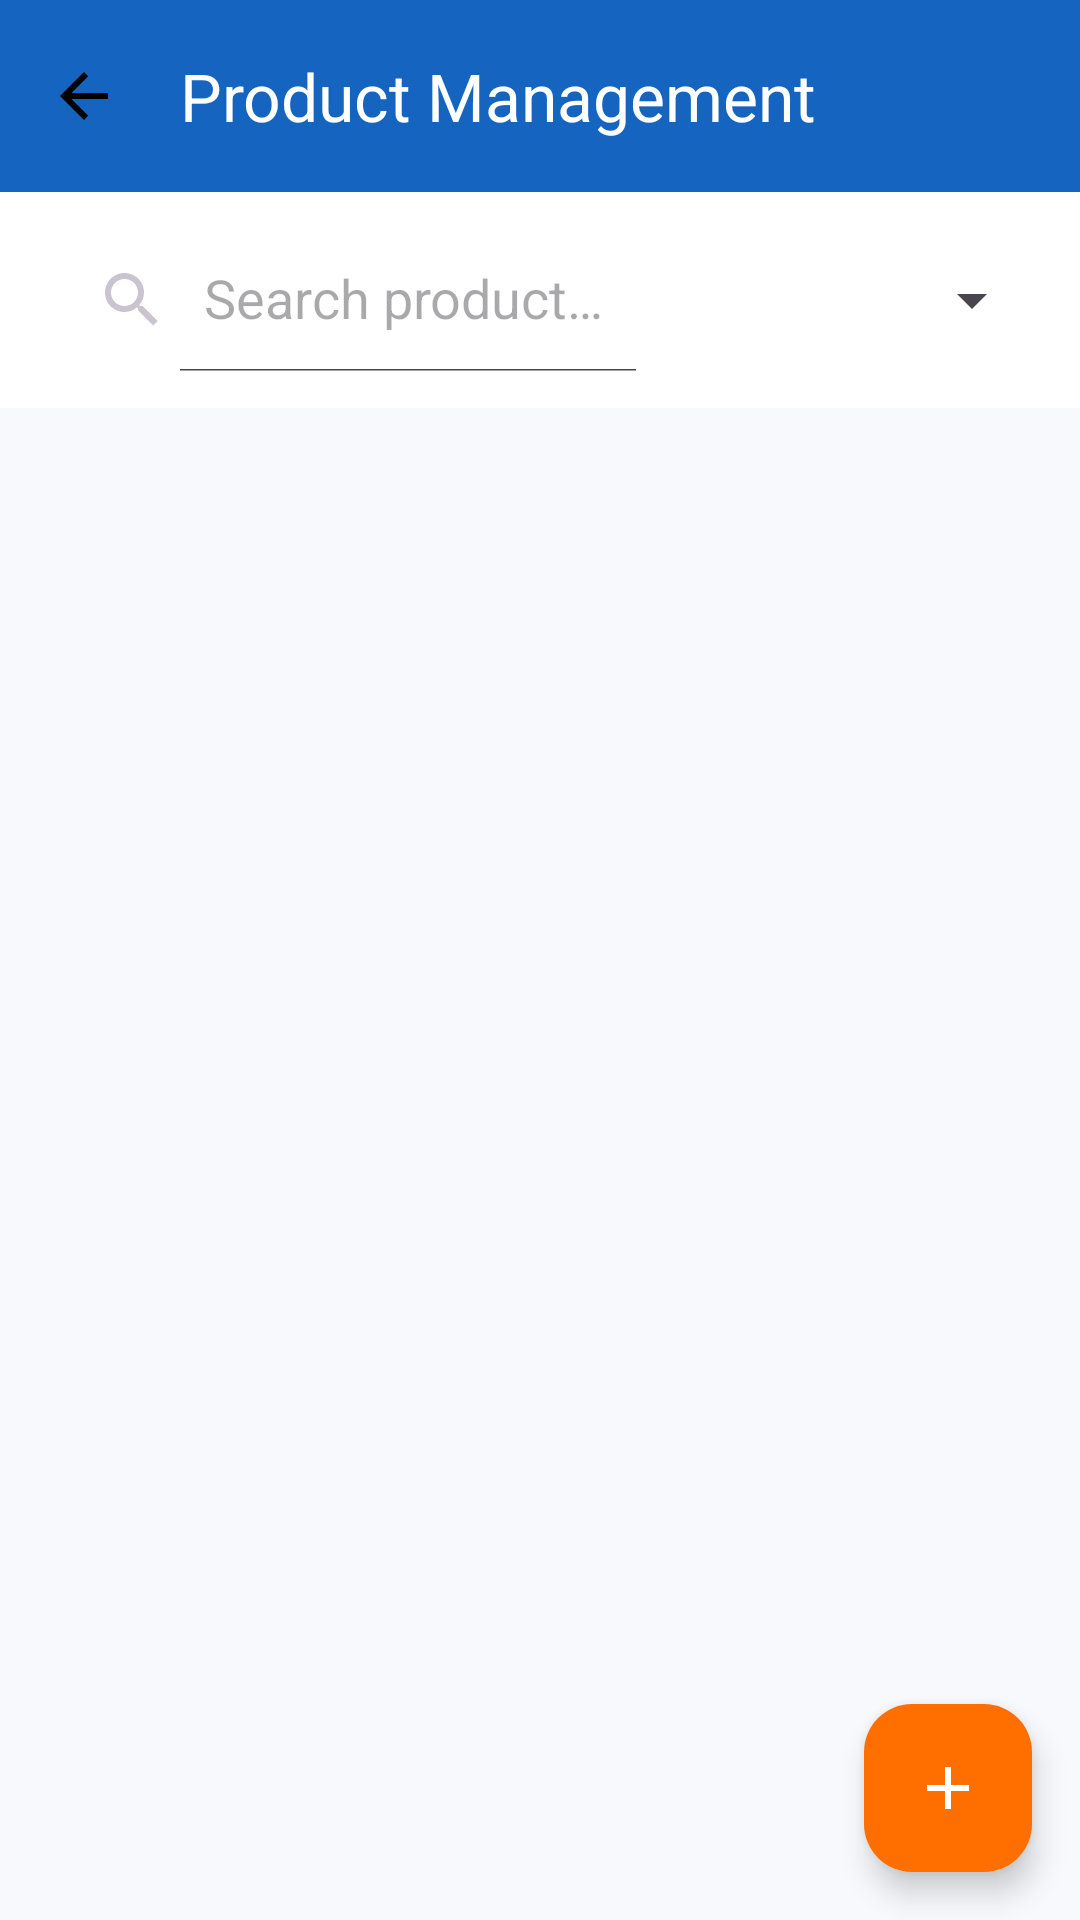

Named icons in this screenshot (1080w x 1920h) and their centers, (x,y):
Add Product: (948,1788)
